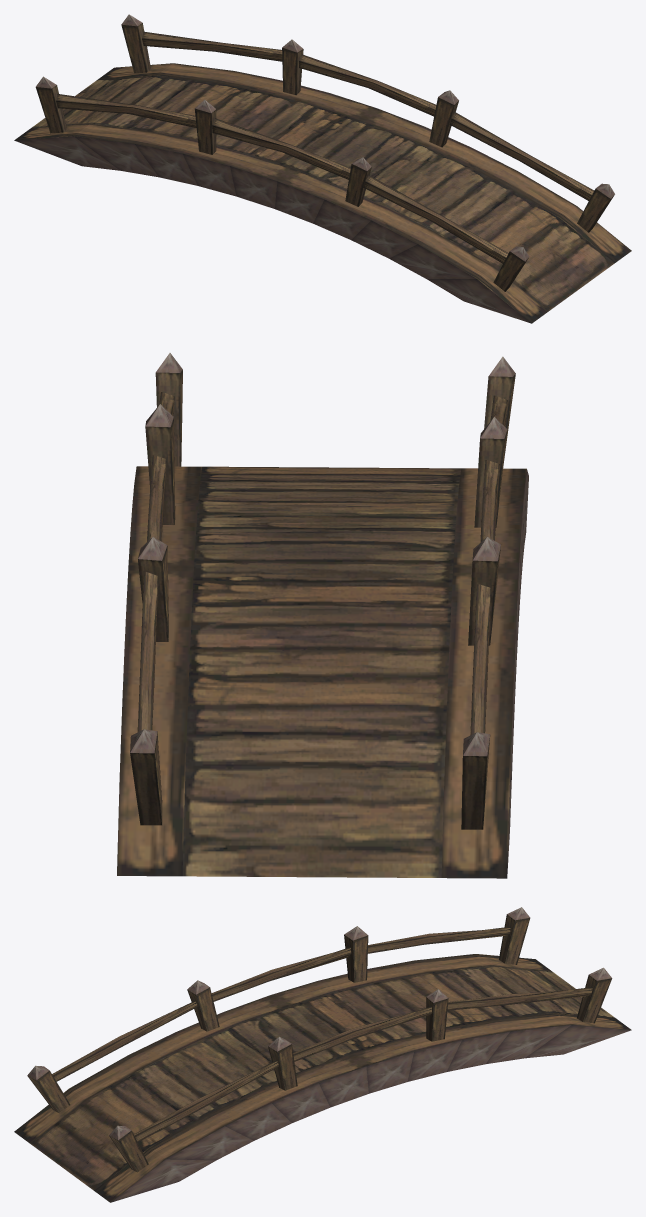
Rendered from object_bridges01.fbx.
3 views of the same model, one above another, from view 1: azimuth 30°, elevation 25°; view 2: azimuth 150°, elevation 25°; view 3: azimuth 270°, elevation 25° (orthographic). The views are drawn at different scales.
Parts seen in each view (by area): view 1: obj0.054; view 2: obj0.054; view 3: obj0.054.
Boxes of the visible parts, left/top/right/bottom form: obj0.054: left=14, top=14, right=631, bottom=323; obj0.054: left=117, top=353, right=528, bottom=878; obj0.054: left=14, top=907, right=631, bottom=1202.
Bounding box in the file's own units: 9.68 × 3.08 × 13.05.
